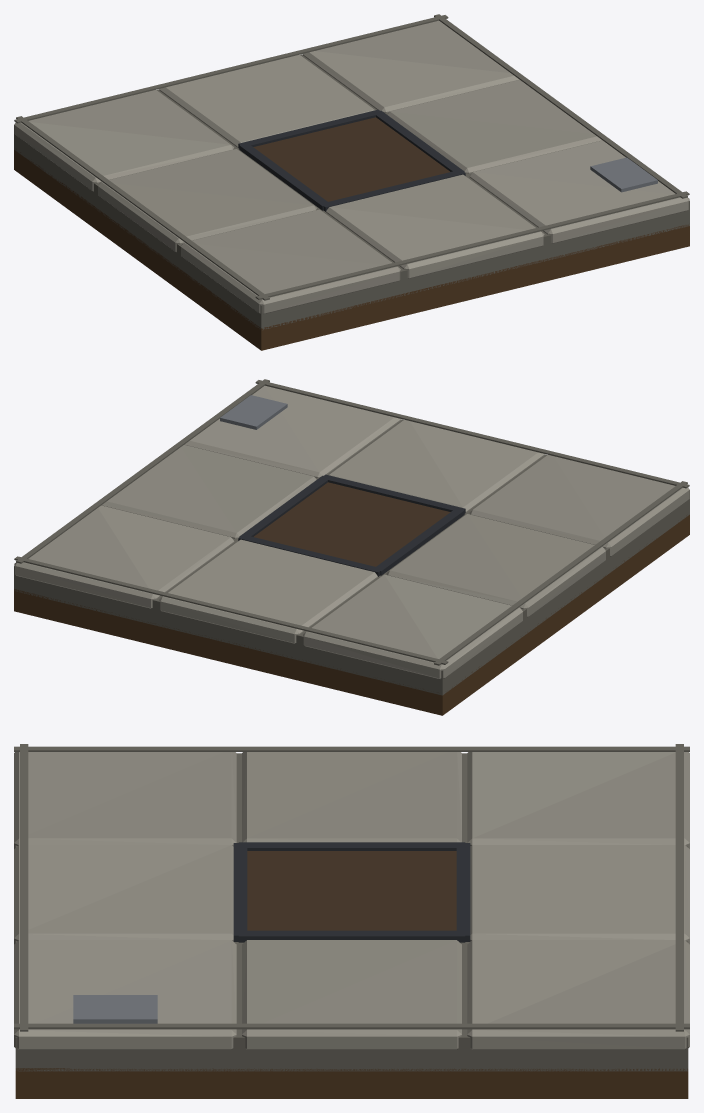
The model's file is sidewalk-01.glb.
The picture shows the model from 3 angles, top to bottom: view 1: azimuth 30°, elevation 25°; view 2: azimuth 150°, elevation 25°; view 3: azimuth 270°, elevation 25°; orthographic projection. The views are drawn at different scales.
Parts seen in each view (by area): view 1: sidewalk_01; view 2: sidewalk_01; view 3: sidewalk_01.
Boxes of the visible parts, <box> form: sidewalk_01: <box>14,14,689,350</box>; sidewalk_01: <box>14,379,689,715</box>; sidewalk_01: <box>14,744,689,1098</box>.
Bounding box in the file's own units: 4 × 0.4729 × 4.
